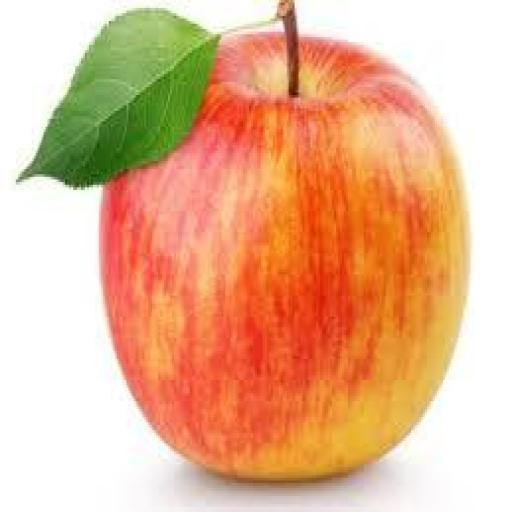apple: (101, 35, 468, 480)
